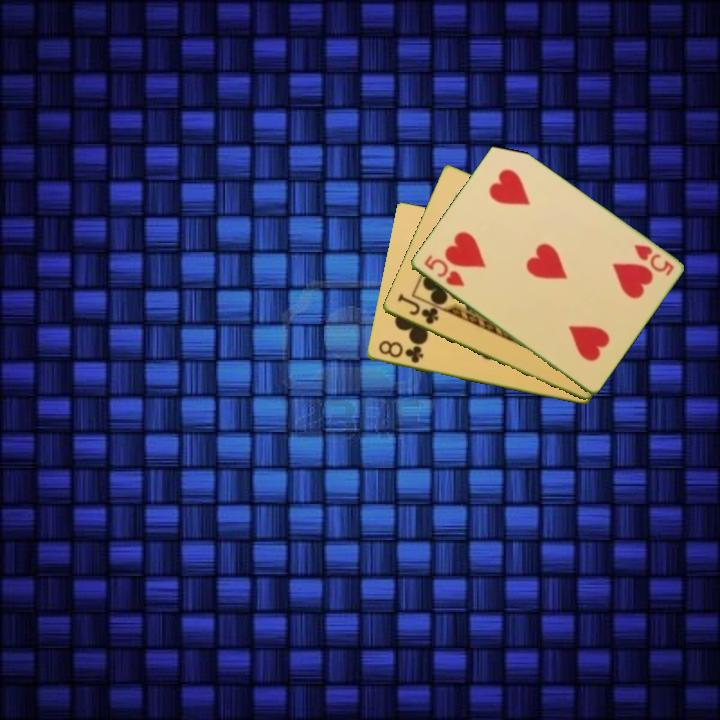5h: (420, 251, 468, 290), (630, 241, 677, 279)
8c: (375, 337, 426, 366)
Jc: (394, 291, 441, 327)
